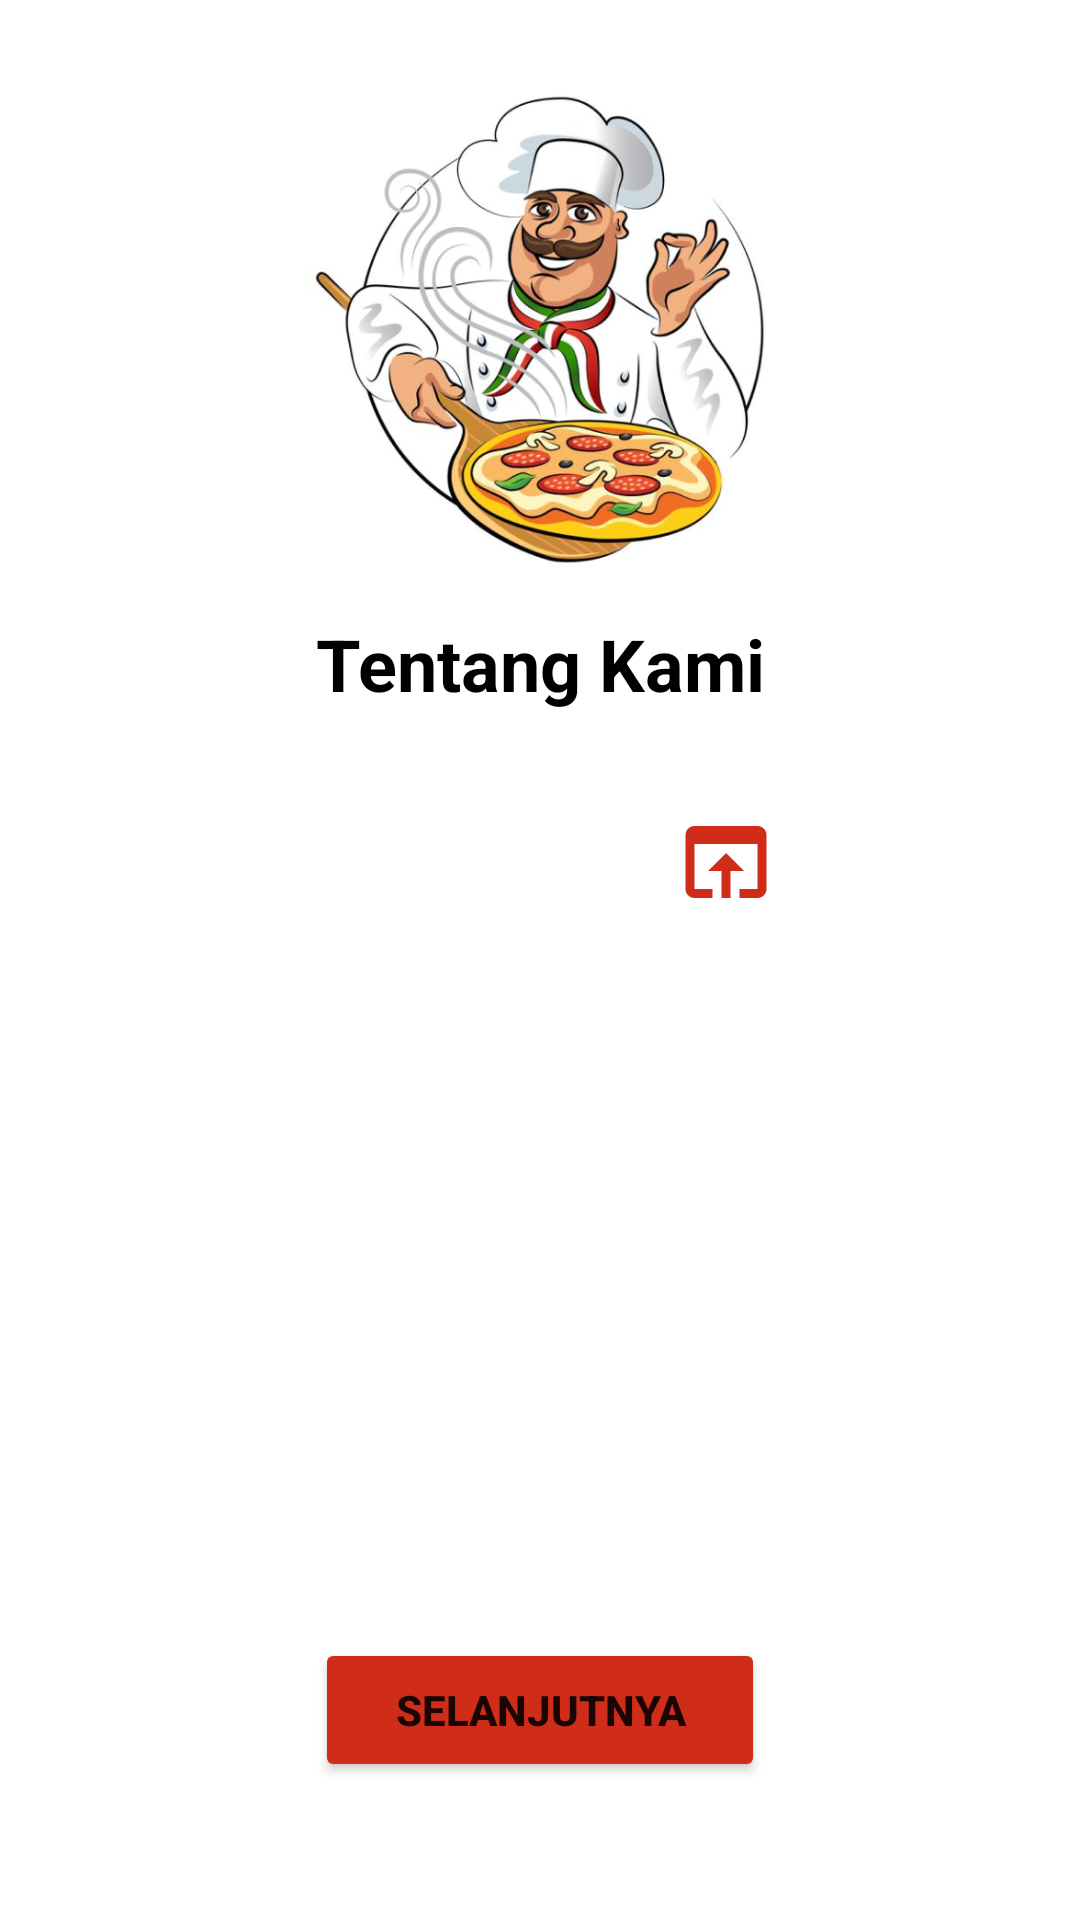

Icons on this 1080 × 1920 Android screen, each with the point to tap as point (x, y):
open in browser: point (726, 862)
